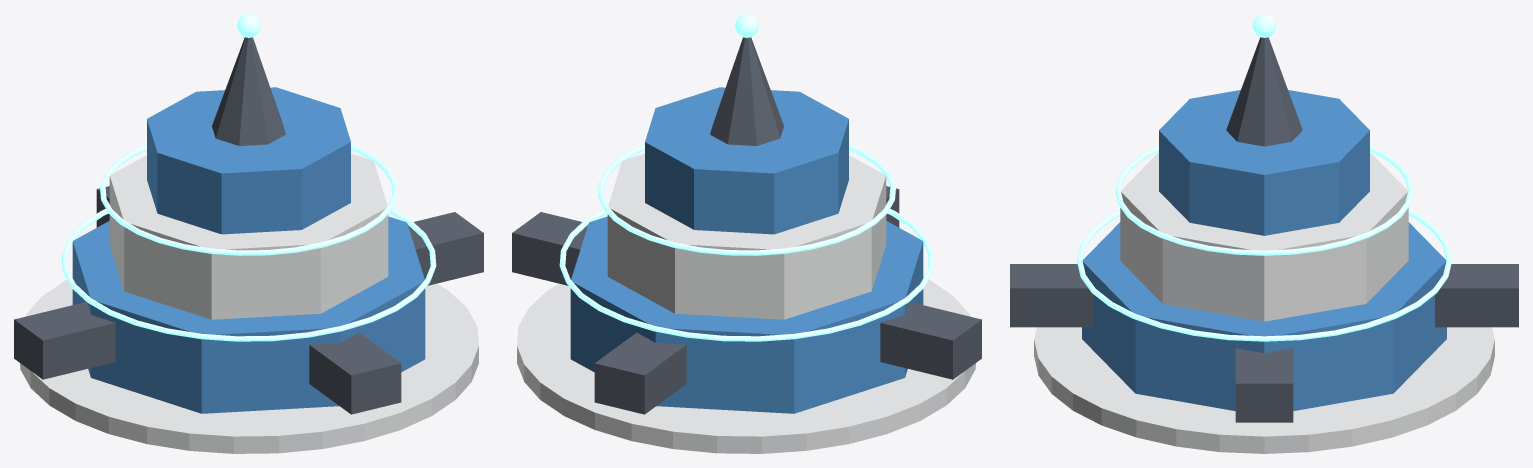
The model's file is fullstack-hub.glb.
3 renders of one model, left to right at view 1: azimuth 30°, elevation 25°; view 2: azimuth 150°, elevation 25°; view 3: azimuth 270°, elevation 25°, orthographic.
Visible parts, largest first — view 1: Hub_Tier_Frontend, Hub_Tier_Backend, Hub_Plaza, Hub_Tier_Database, Hub_Skybridge_Portal.003, Hub_Skybridge_Portal.002, Hub_Spire, Hub_Skybridge_Portal.001, Hub_Ring_1, Hub_Ring_2; view 2: Hub_Tier_Frontend, Hub_Tier_Backend, Hub_Plaza, Hub_Tier_Database, Hub_Skybridge_Portal.003, Hub_Skybridge_Portal, Hub_Spire, Hub_Skybridge_Portal.001, Hub_Ring_1, Hub_Ring_2; view 3: Hub_Tier_Frontend, Hub_Tier_Backend, Hub_Plaza, Hub_Tier_Database, Hub_Skybridge_Portal, Hub_Skybridge_Portal.002, Hub_Spire, Hub_Skybridge_Portal.001, Hub_Ring_1, Hub_Ring_2.
Part boxes in pixels (x1,y1,x2,y2): Hub_Tier_Frontend: [72, 216, 425, 413]; Hub_Tier_Backend: [109, 153, 388, 319]; Hub_Plaza: [20, 277, 478, 453]; Hub_Tier_Database: [147, 87, 350, 234]; Hub_Skybridge_Portal.003: [14, 302, 115, 379]; Hub_Skybridge_Portal.002: [309, 332, 401, 414]; Hub_Spire: [212, 37, 285, 145]; Hub_Skybridge_Portal.001: [408, 212, 483, 285]; Hub_Ring_1: [61, 209, 436, 341]; Hub_Ring_2: [100, 144, 397, 255]; Hub_Tier_Frontend: [570, 216, 923, 413]; Hub_Tier_Backend: [607, 153, 886, 319]; Hub_Plaza: [517, 277, 975, 453]; Hub_Tier_Database: [645, 87, 848, 234]; Hub_Skybridge_Portal.003: [880, 302, 981, 379]; Hub_Skybridge_Portal: [594, 332, 686, 414]; Hub_Spire: [710, 37, 783, 145]; Hub_Skybridge_Portal.001: [512, 212, 587, 285]; Hub_Ring_1: [559, 209, 934, 341]; Hub_Ring_2: [598, 144, 895, 255]; Hub_Tier_Frontend: [1082, 222, 1446, 410]; Hub_Tier_Backend: [1120, 152, 1408, 321]; Hub_Plaza: [1034, 327, 1494, 453]; Hub_Tier_Database: [1159, 90, 1369, 235]; Hub_Skybridge_Portal: [1435, 264, 1518, 327]; Hub_Skybridge_Portal.002: [1010, 264, 1093, 327]; Hub_Spire: [1226, 37, 1302, 146]; Hub_Skybridge_Portal.001: [1235, 348, 1293, 422]; Hub_Ring_1: [1077, 209, 1451, 341]; Hub_Ring_2: [1115, 145, 1413, 255].
Bounding box in the file's own units: 10.6 × 7.85 × 10.6.
